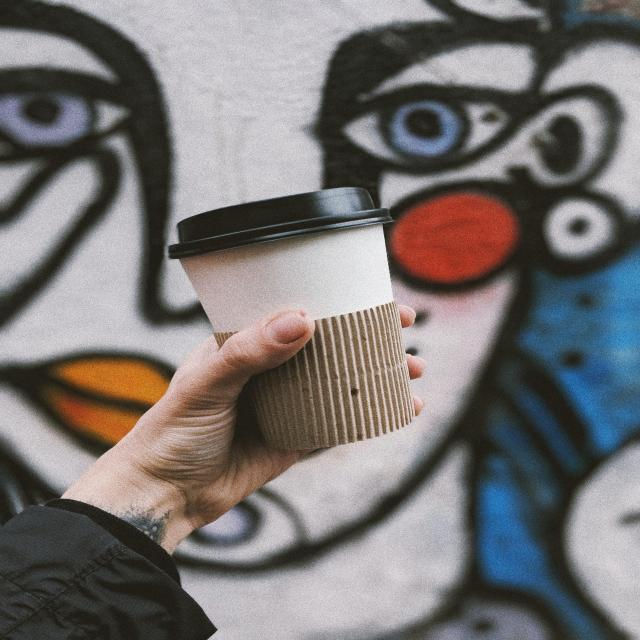cup: (172, 186, 418, 449)
